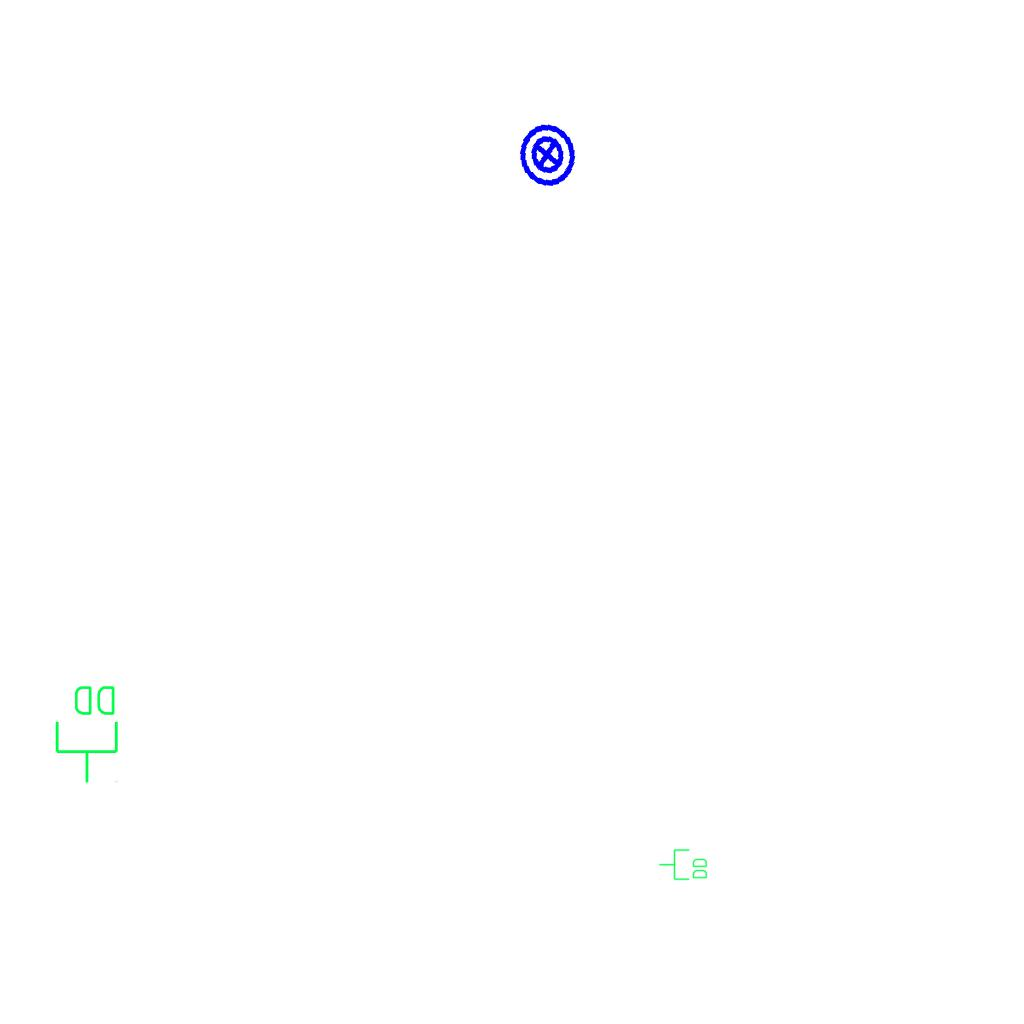Datenanschluss_zweifach: (53, 682, 122, 785), (658, 848, 709, 882)
Taster_beleuchtet: (509, 117, 585, 193)
